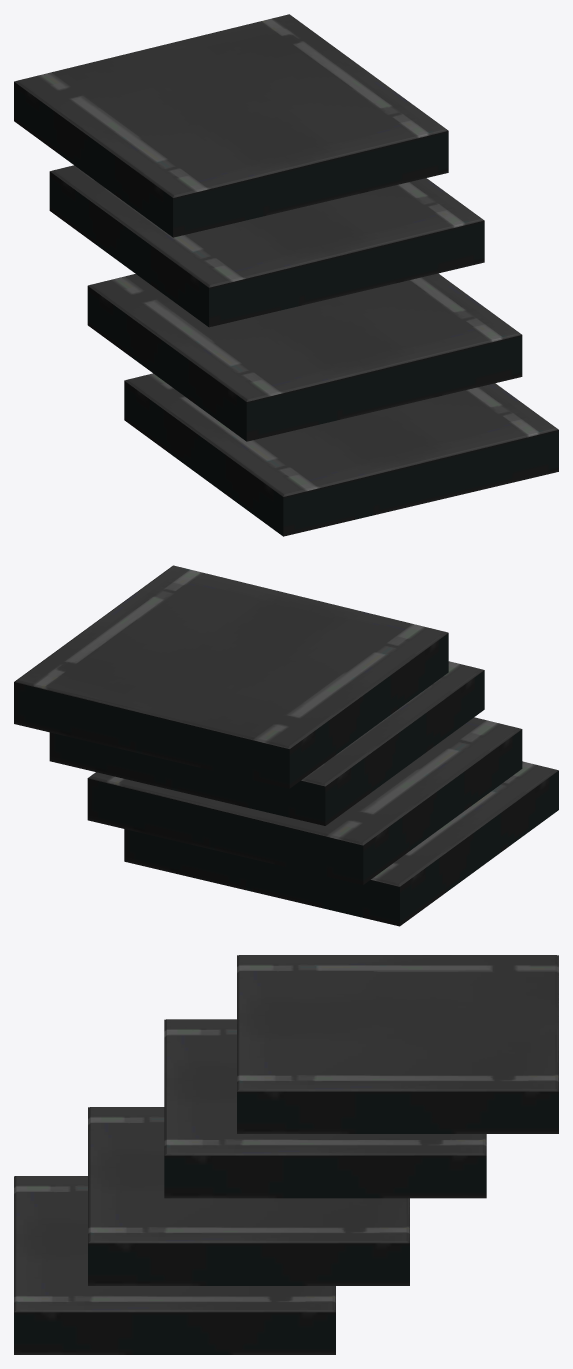
File: tel_louti.glb
3 renders of one model, top to bottom at view 1: azimuth 30°, elevation 25°; view 2: azimuth 150°, elevation 25°; view 3: azimuth 270°, elevation 25°, orthographic.
Visible parts, largest first — view 1: tel_louti; view 2: tel_louti; view 3: tel_louti.
Boxes of the visible parts, x1,y1,x2,y2 form: tel_louti: (14,14,558,536); tel_louti: (14,565,558,926); tel_louti: (14,955,558,1354).
Size of the model in its own units: 100 by 90.68 by 169.
1 material, 1 textured.
